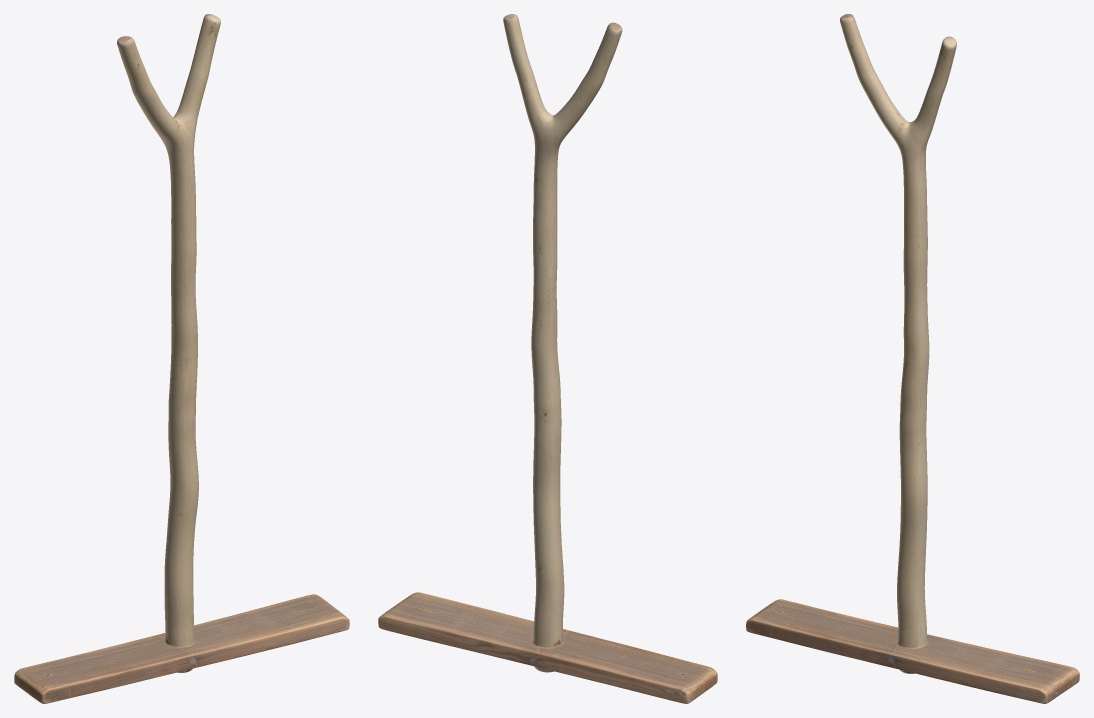
The model's file is za-vunu.glb.
3 views of the same model, side by side, from view 1: azimuth 30°, elevation 25°; view 2: azimuth 150°, elevation 25°; view 3: azimuth 330°, elevation 25° (orthographic).
Bounding box in the file's own units: 0.9406 × 1.9 × 0.1766.
Materials: 1 (1 with a texture image).
